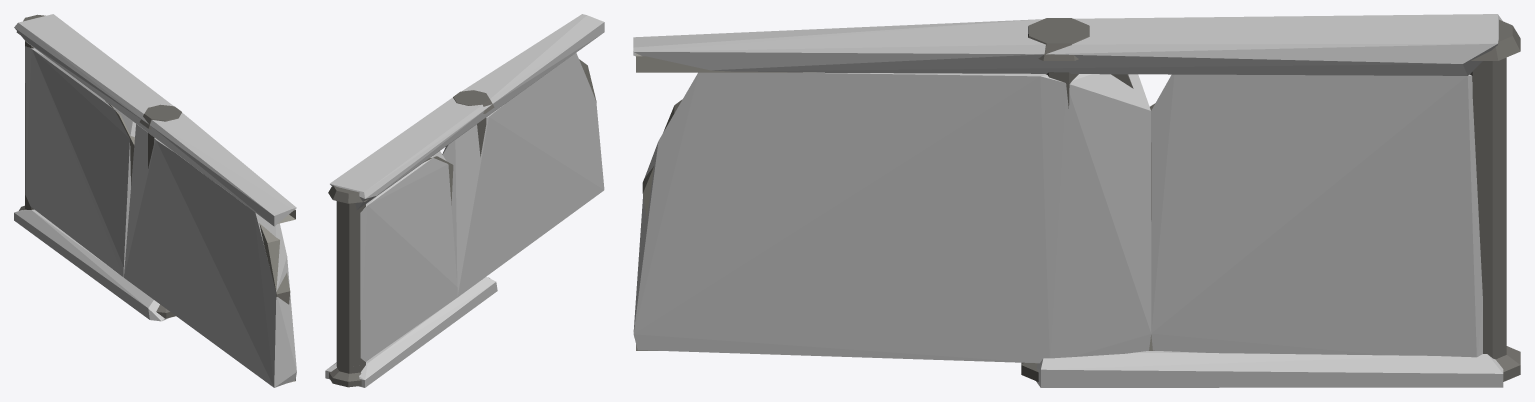
File: SM_Bld_Railing_01.fbx
3 renders of one model, left to right at view 1: azimuth 30°, elevation 25°; view 2: azimuth 150°, elevation 25°; view 3: azimuth 270°, elevation 25°, orthographic. The views are drawn at different scales.
Visible parts, largest first — view 1: SM_Bld_Railing_01_ConvexHulls, SM_Bld_Railing_01; view 2: SM_Bld_Railing_01_ConvexHulls, SM_Bld_Railing_01; view 3: SM_Bld_Railing_01_ConvexHulls, SM_Bld_Railing_01.
Part boxes in pixels (box(x1,y1,x2,y2)): SM_Bld_Railing_01_ConvexHulls: box(14, 14, 296, 387); SM_Bld_Railing_01: box(16, 14, 295, 382); SM_Bld_Railing_01_ConvexHulls: box(325, 14, 604, 387); SM_Bld_Railing_01: box(328, 59, 596, 387); SM_Bld_Railing_01_ConvexHulls: box(633, 14, 1503, 387); SM_Bld_Railing_01: box(636, 18, 1520, 381).
Bounding box in the file's own units: 23.8 × 262 × 111.
Materials: 2 (1 with a texture image).
